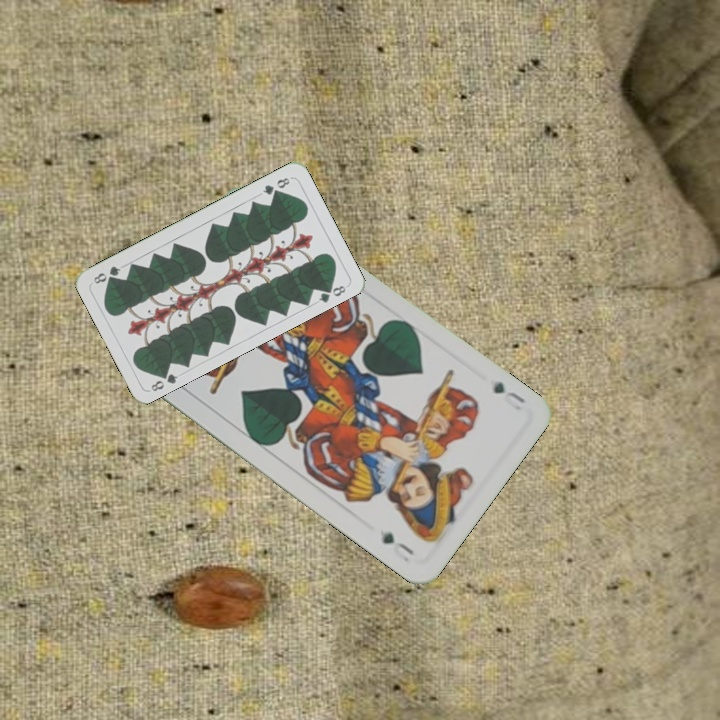G8: (147, 366, 181, 394), (258, 173, 292, 198)
GU: (489, 377, 528, 413)
